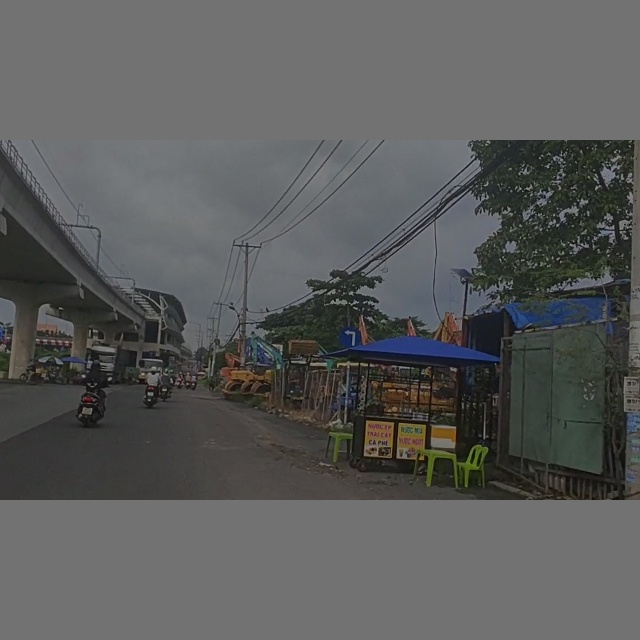R.301e: (339, 326, 361, 347)
